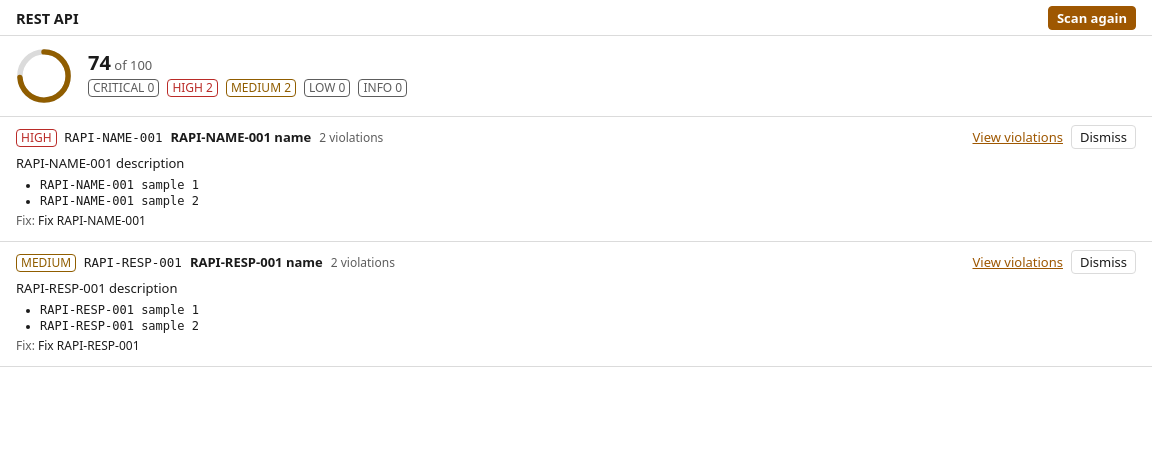
View violations pages through loadViolations
The image size is (1152, 460).
Click the button "View violations" in the row of "RAPI-NAME-001 name" at x=1018, y=137, box [972,125,1063,149]
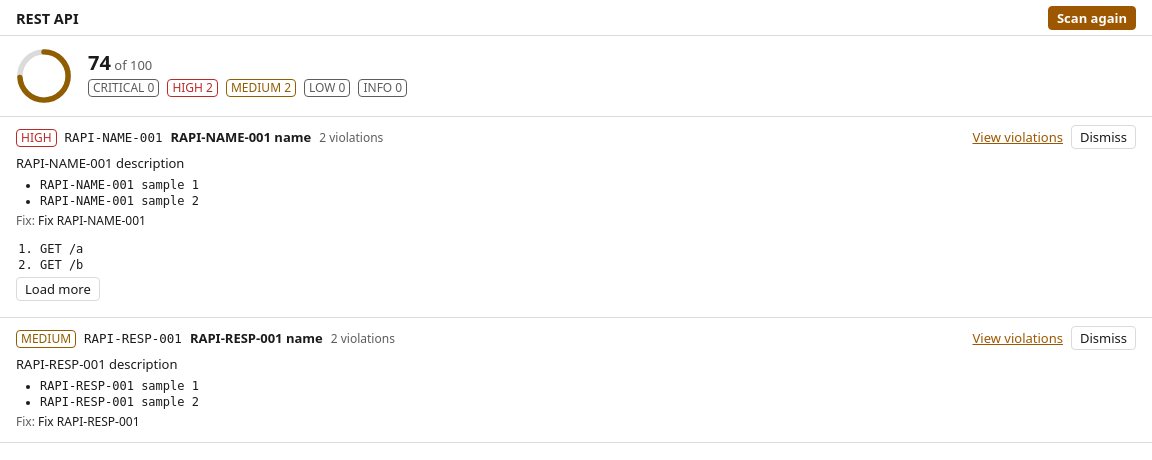
Check: the text "GET /b" is shown, box [40,258,83,272]
Click the button "Load more" at x=58, y=289, box [16,277,100,301]
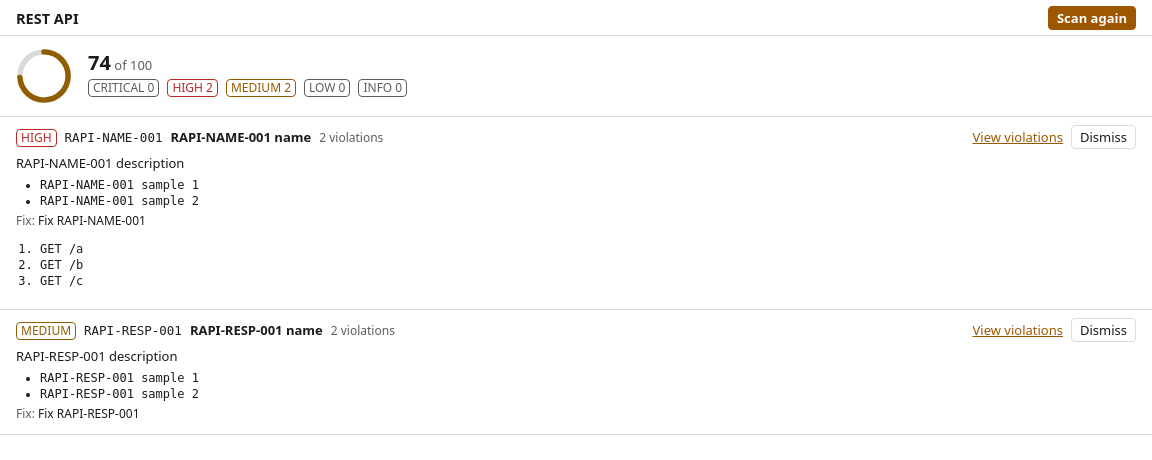
Check: the text "GET /c" is shown, box [40,274,83,288]
